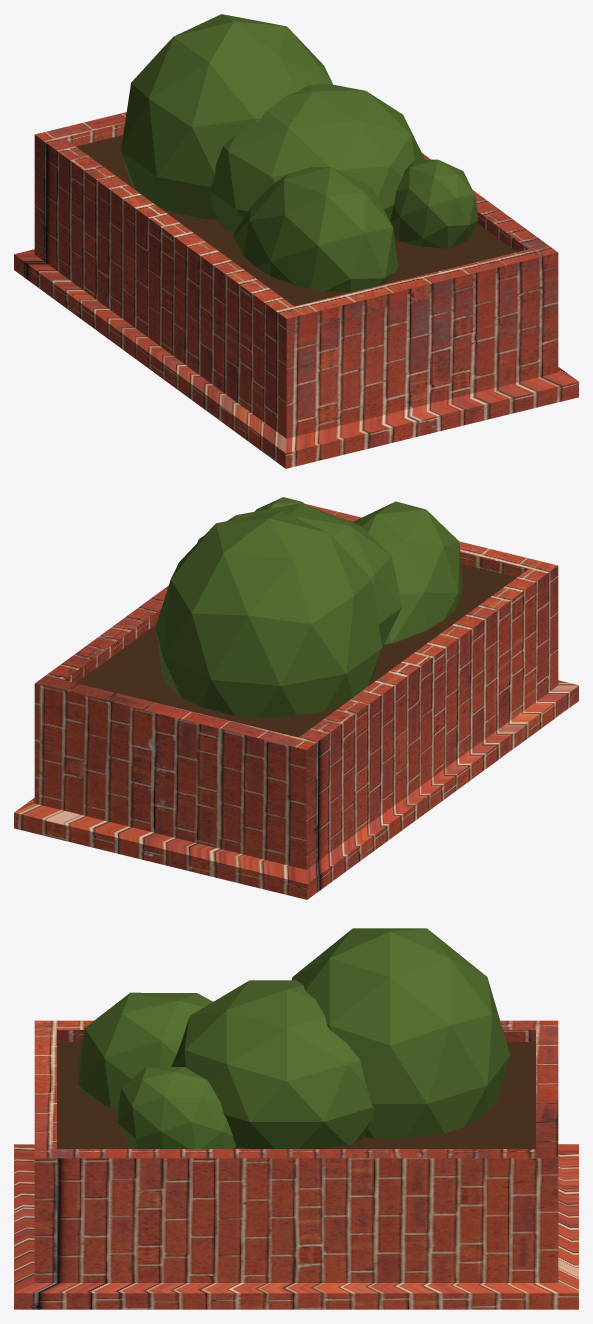
File: planter box.fbx
3 views of the same model, one above another, from view 1: azimuth 30°, elevation 25°; view 2: azimuth 150°, elevation 25°; view 3: azimuth 270°, elevation 25° (orthographic). The views are drawn at different scales.
Parts seen in each view (by area): view 1: Cube.001, Icosphere; view 2: Cube.001, Icosphere; view 3: Cube.001, Icosphere.
Boxes of the visible parts, x1=… form: Cube.001: x1=14, y1=112, x2=578, y2=468; Icosphere: x1=121, y1=14, x2=478, y2=291; Cube.001: x1=14, y1=504, x2=578, y2=899; Icosphere: x1=155, y1=497, x2=462, y2=717; Cube.001: x1=14, y1=1020, x2=578, y2=1309; Icosphere: x1=78, y1=928, x2=510, y2=1148.
Size of the model in its own units: 494 by 456 by 793.
